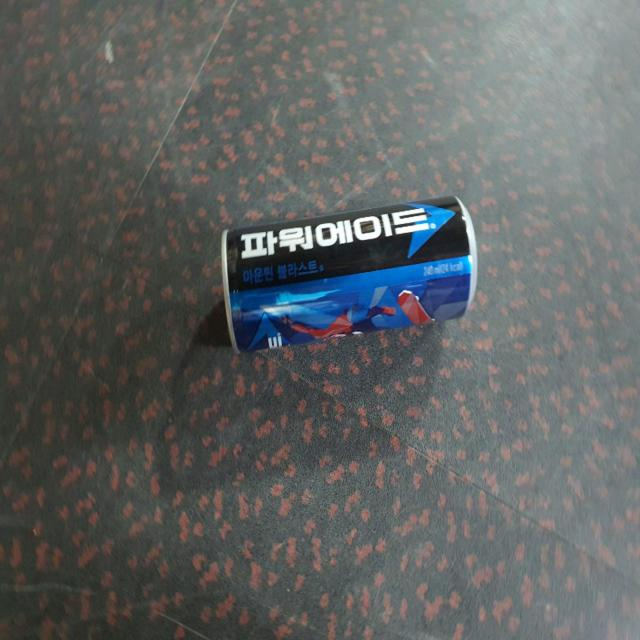can: (222, 196, 478, 351)
